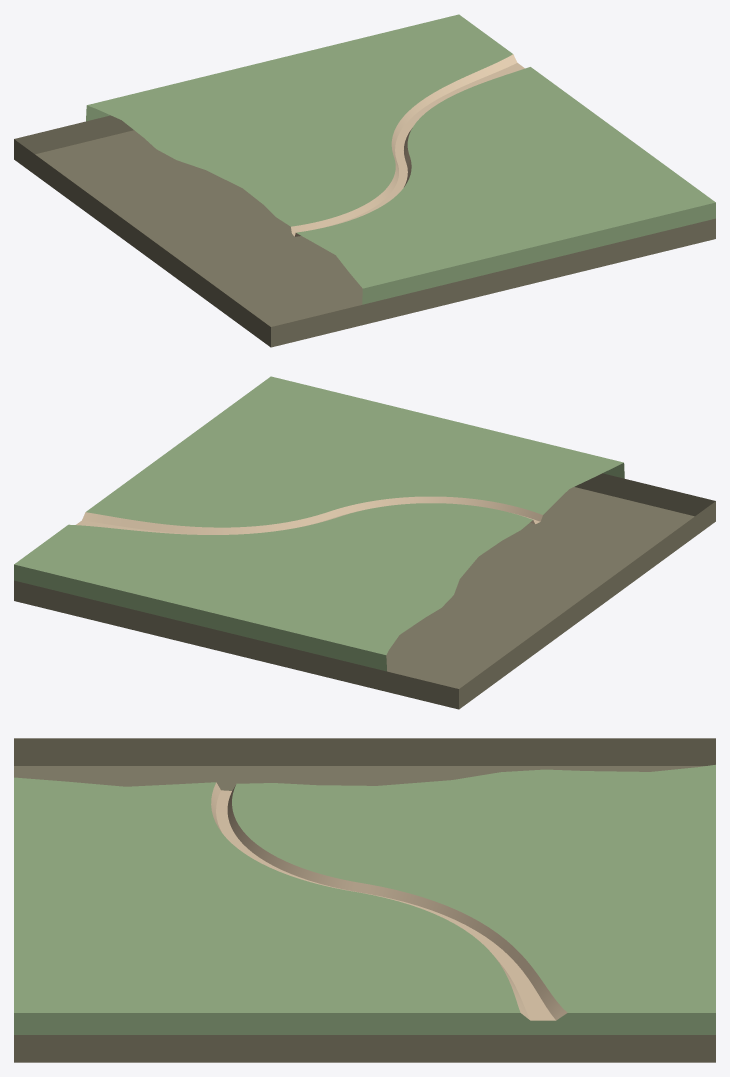
Rendered from MapOld.fbx.
The picture shows the model from 3 angles, top to bottom: view 1: azimuth 30°, elevation 25°; view 2: azimuth 150°, elevation 25°; view 3: azimuth 270°, elevation 25°; orthographic projection. The views are drawn at different scales.
Visible parts, largest first — view 1: Map; view 2: Map; view 3: Map.
Part boxes in pixels (x1,y1,x2,y2): Map: (14, 14, 715, 347); Map: (14, 376, 715, 709); Map: (14, 738, 715, 1062).
Size of the model in its own units: 23.57 by 1.85 by 23.57.
